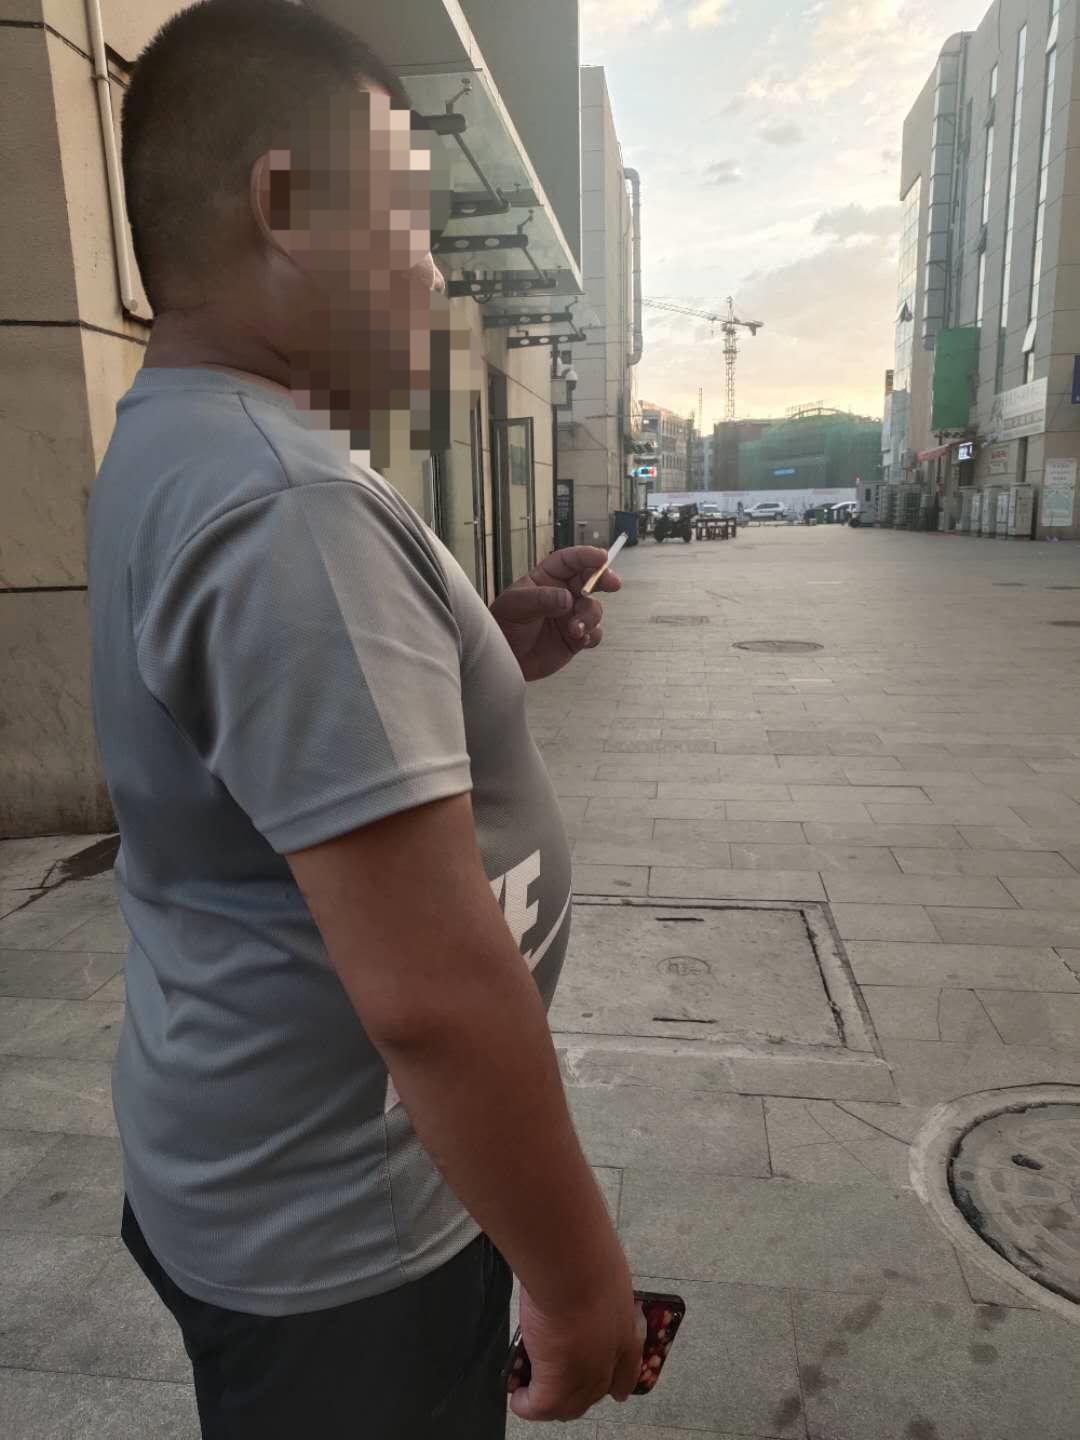smoke: (577, 525, 628, 598)
